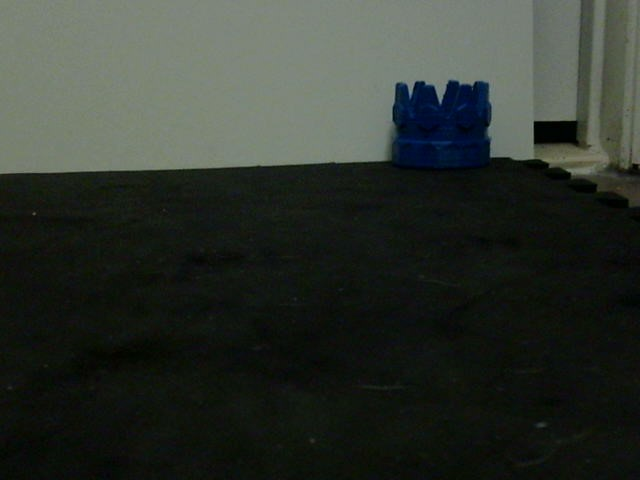crown: (388, 78, 496, 171)
